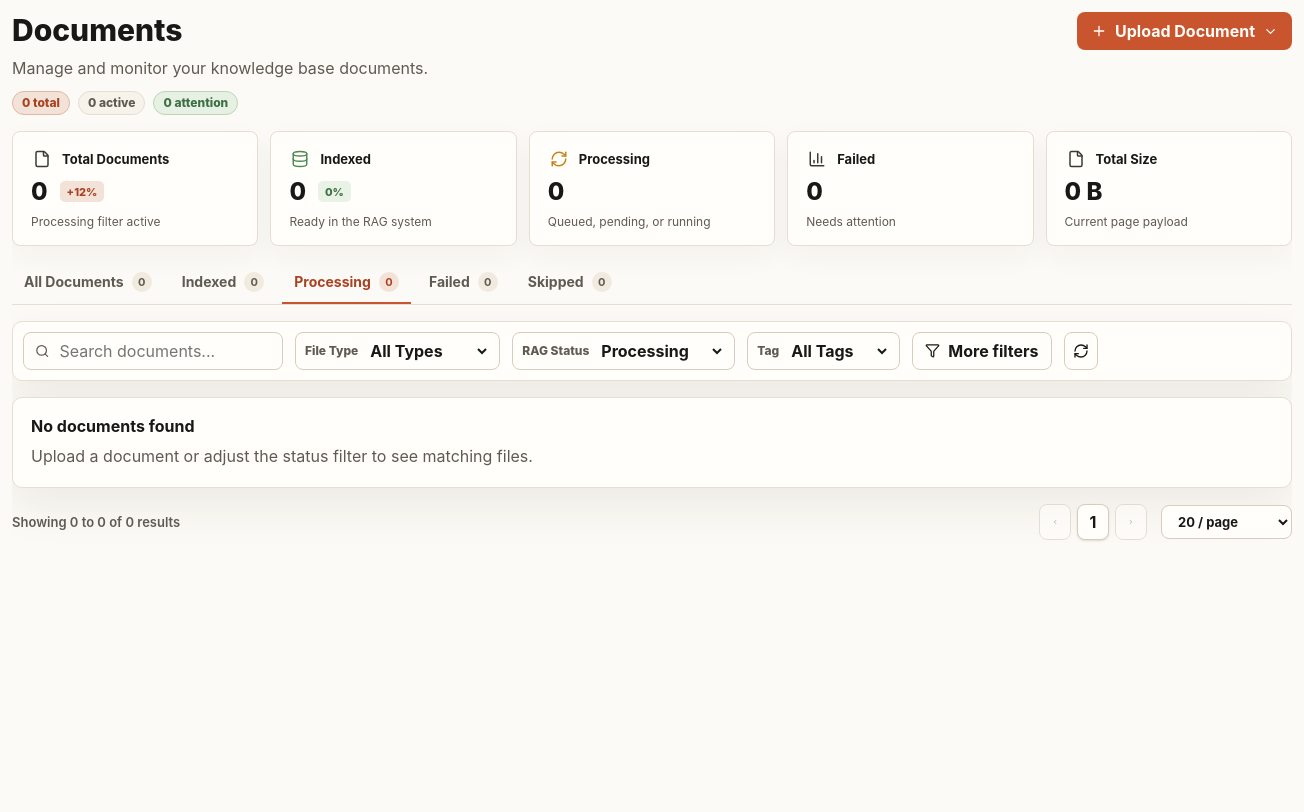
Scenario: Document task refresh › reloads when a missing row update matches the selected status filter
The image size is (1304, 812).
Expected: the text "No documents found" is shown, [31,416,194,436]
Select "Queued" in the dropdown named "RAG status filter" at (661, 351), box [597,336,725,366]
Wait 260 ms
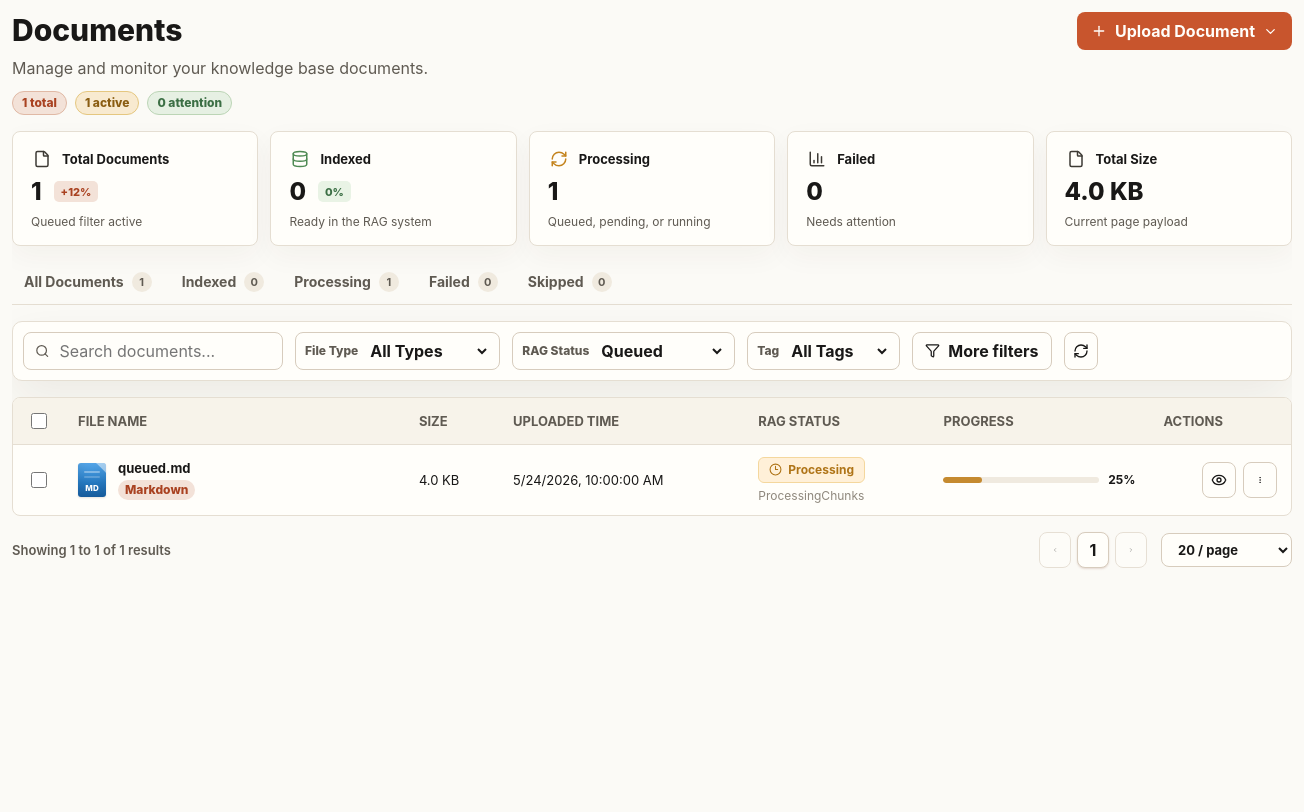
Expected: the text "queued.md" is shown, [118,460,195,476]
